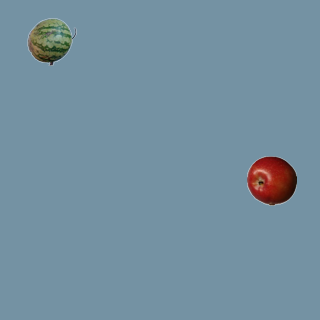Apple Braeburn: (246, 155, 296, 205)
Watermelon: (26, 16, 76, 66)
